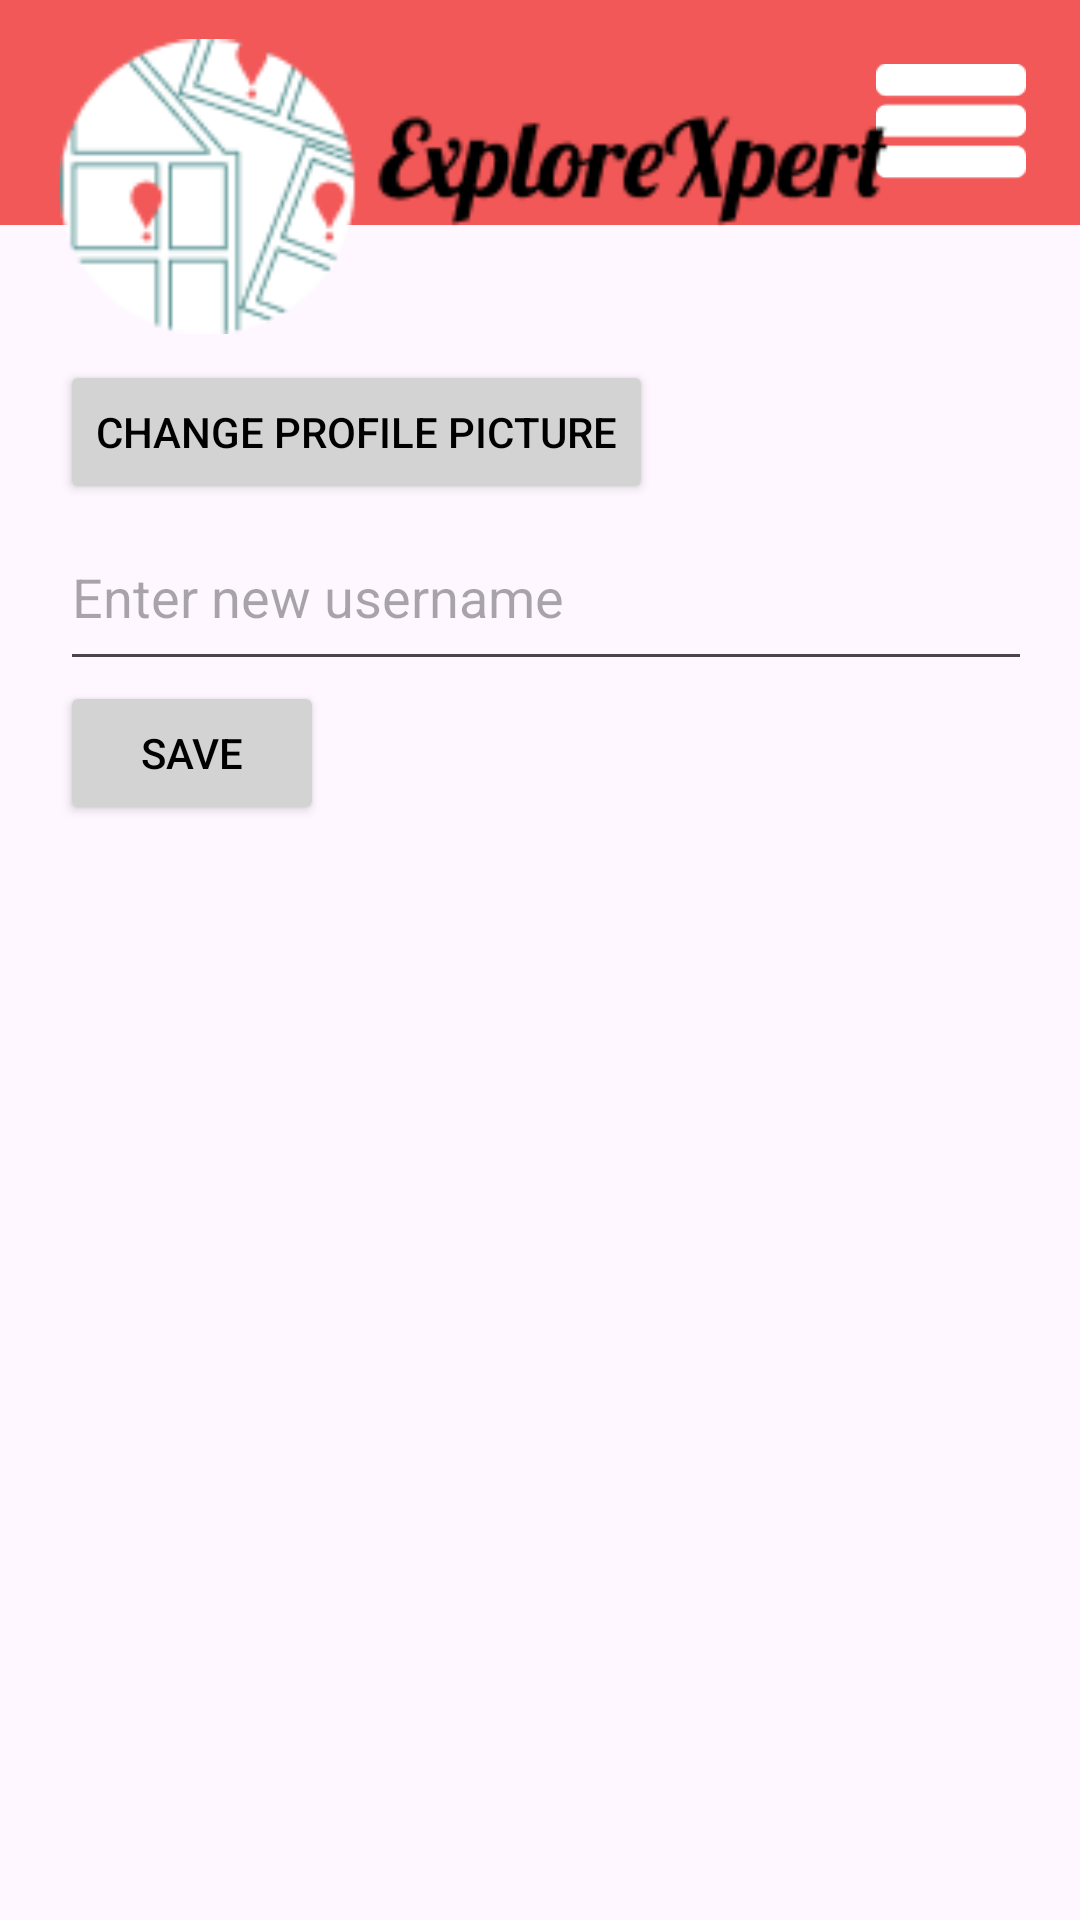

Icon click points for this 1080w x 1920h phone screenshot, format [x,y]:
Menu Button: [951,130]
